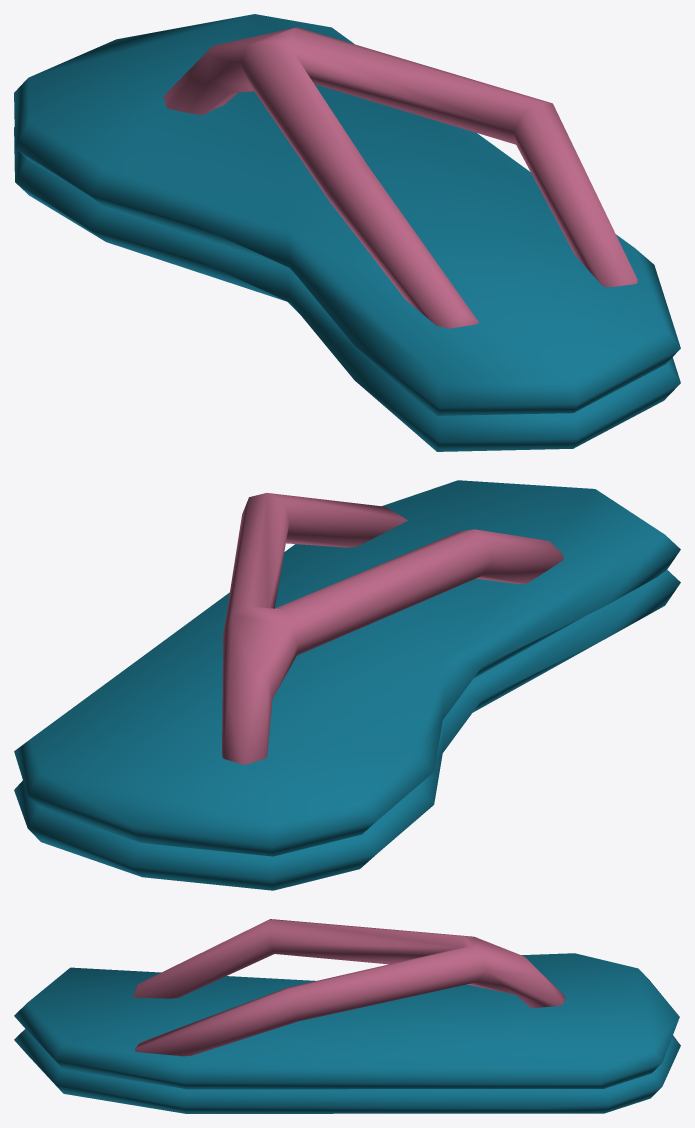
The model's file is chppl.glb.
The picture shows the model from 3 angles, top to bottom: view 1: azimuth 30°, elevation 25°; view 2: azimuth 150°, elevation 25°; view 3: azimuth 270°, elevation 25°; orthographic projection. The views are drawn at different scales.
Parts seen in each view (by area): view 1: Plane.002; view 2: Plane.002; view 3: Plane.002.
Boxes of the visible parts, x1,y1,x2,y2 form: Plane.002: [14, 14, 680, 451]; Plane.002: [14, 480, 680, 890]; Plane.002: [14, 919, 680, 1113].
Bounding box in the file's own units: 1.98 × 0.9117 × 4.53.
